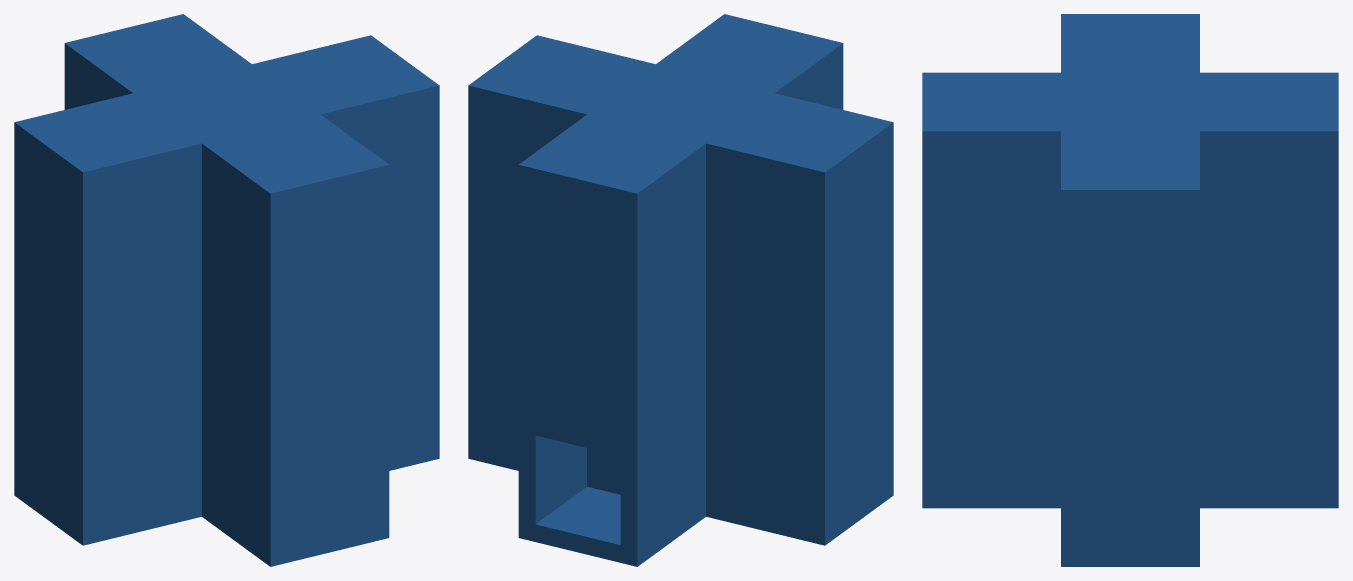
The model's file is apartment.fbx.
The picture shows the model from 3 angles, left to right: view 1: azimuth 30°, elevation 25°; view 2: azimuth 150°, elevation 25°; view 3: azimuth 270°, elevation 25°; orthographic projection.
Visible parts, largest first — view 1: Apartment; view 2: Apartment; view 3: Apartment.
Boxes of the visible parts, x1,y1,x2,y2 form: Apartment: (14,14,439,566); Apartment: (468,14,893,566); Apartment: (922,14,1338,566).
Size of the model in its own units: 2000 by 2000 by 2000.
